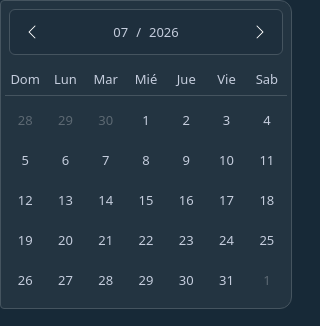
Scenario: DatePicker › shows the month of a selected day that belongs to an adjacent month
Click the 1st button "30": (106, 120) top-left (90, 104), bottom-right (122, 136)
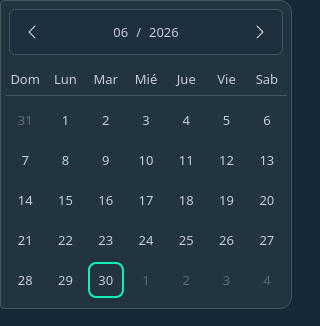
Expected: the element named "Mes visible: 06/2026" is shown, top-left (113, 24), bottom-right (179, 40)
